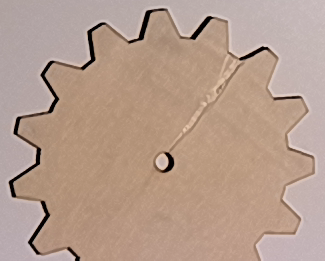Crack: (164, 48, 249, 152)
